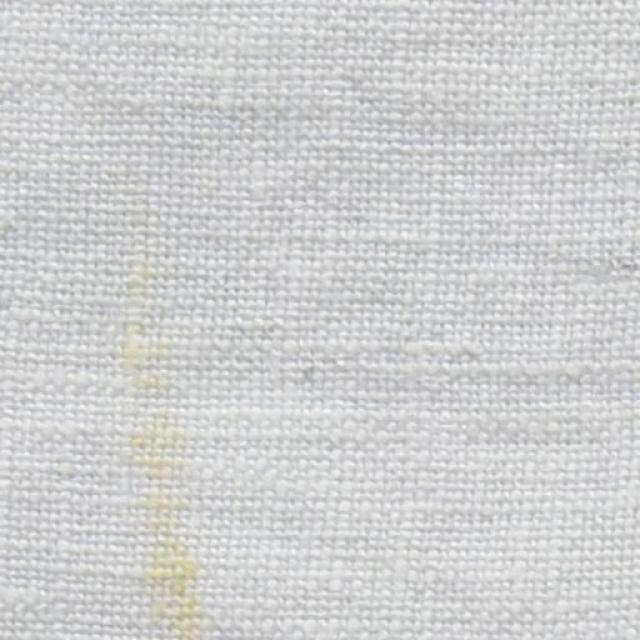Stain: (114, 260, 199, 640)
